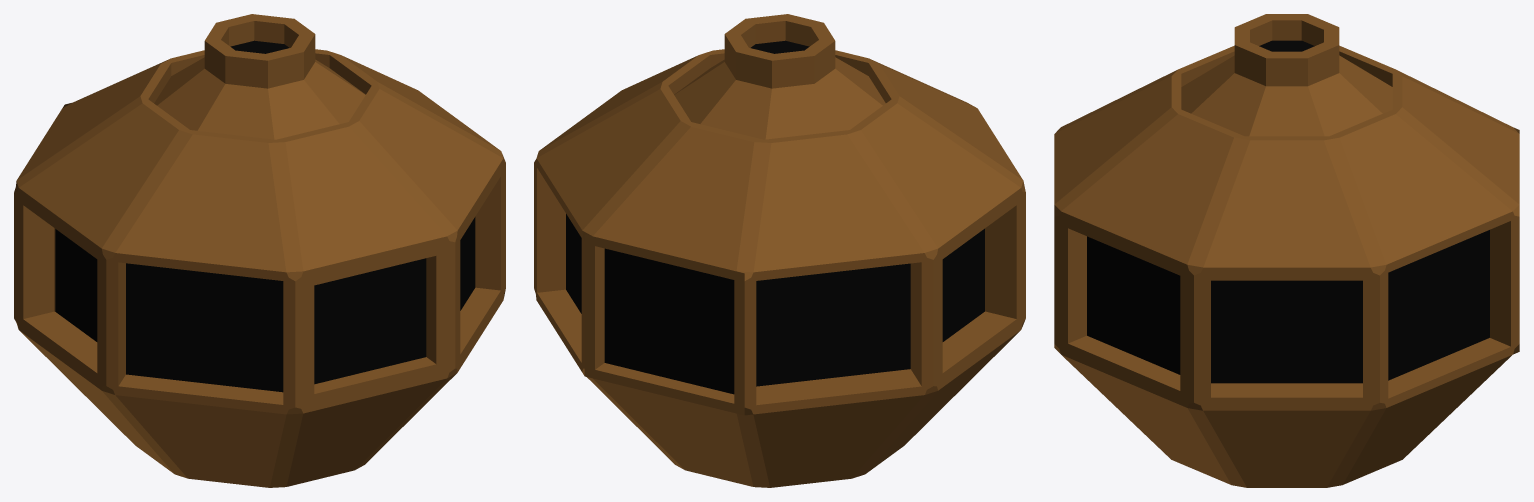
Rendered from Ylii2.fbx.
3 renders of one model, left to right at view 1: azimuth 30°, elevation 25°; view 2: azimuth 150°, elevation 25°; view 3: azimuth 270°, elevation 25°, orthographic.
Parts seen in each view (by area): view 1: Plane; view 2: Plane; view 3: Plane.
Boxes of the visible parts, x1,y1,x2,y2 form: Plane: (14, 14, 505, 487); Plane: (534, 14, 1025, 487); Plane: (1054, 14, 1519, 487).
Size of the model in its own units: 381 by 361 by 381.
